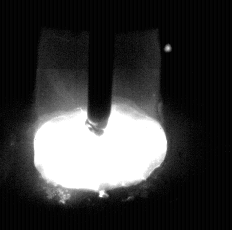arame: (88, 0, 113, 136)
poca: (33, 0, 168, 230)
